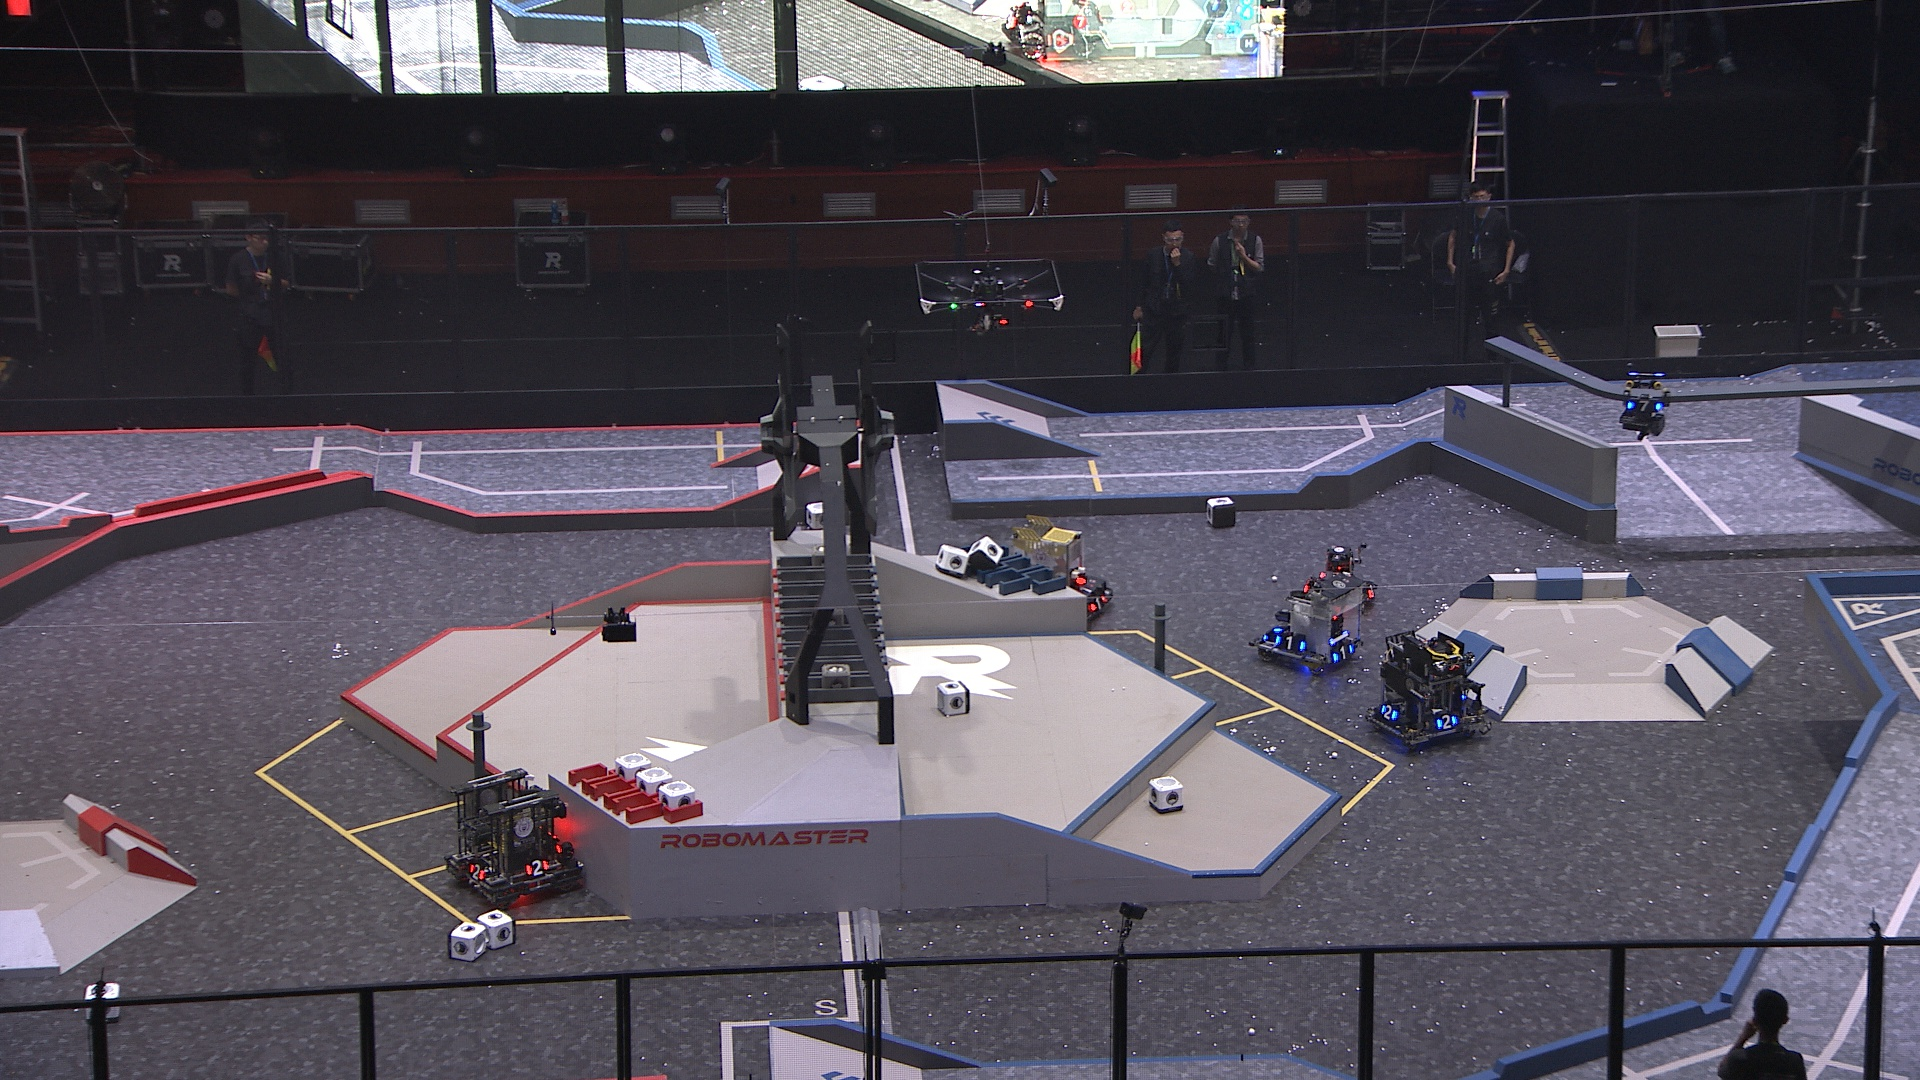armor: (1625, 398, 1665, 415), (1276, 633, 1305, 651), (1331, 644, 1354, 665), (524, 858, 549, 878), (465, 862, 487, 884), (1377, 703, 1396, 723), (1436, 713, 1457, 731), (1091, 593, 1109, 612), (1077, 580, 1095, 597), (1366, 583, 1377, 599)
car: (443, 766, 588, 907), (1367, 622, 1487, 754), (1250, 572, 1371, 679), (1021, 520, 1116, 626), (1302, 545, 1385, 617)
watcher: (1619, 371, 1673, 442)
